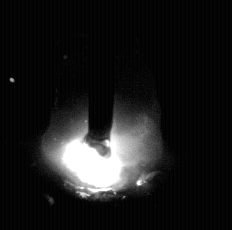arame: (88, 0, 114, 156)
poca: (40, 0, 163, 230)
